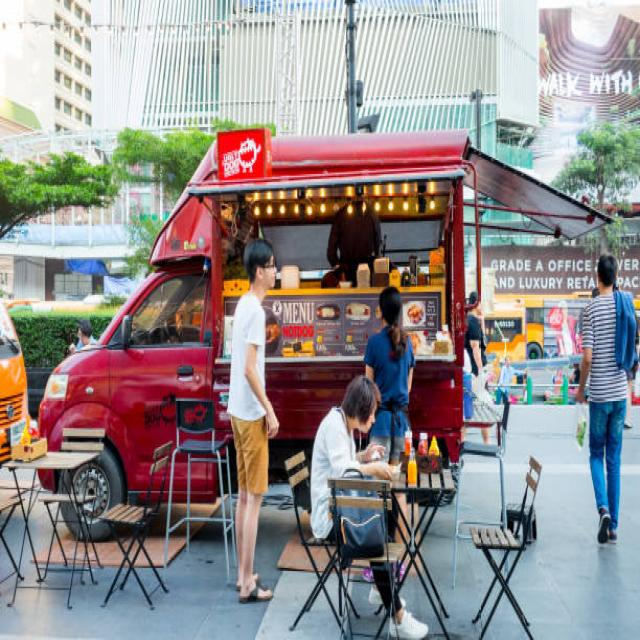Emperan: (29, 110, 623, 601)
